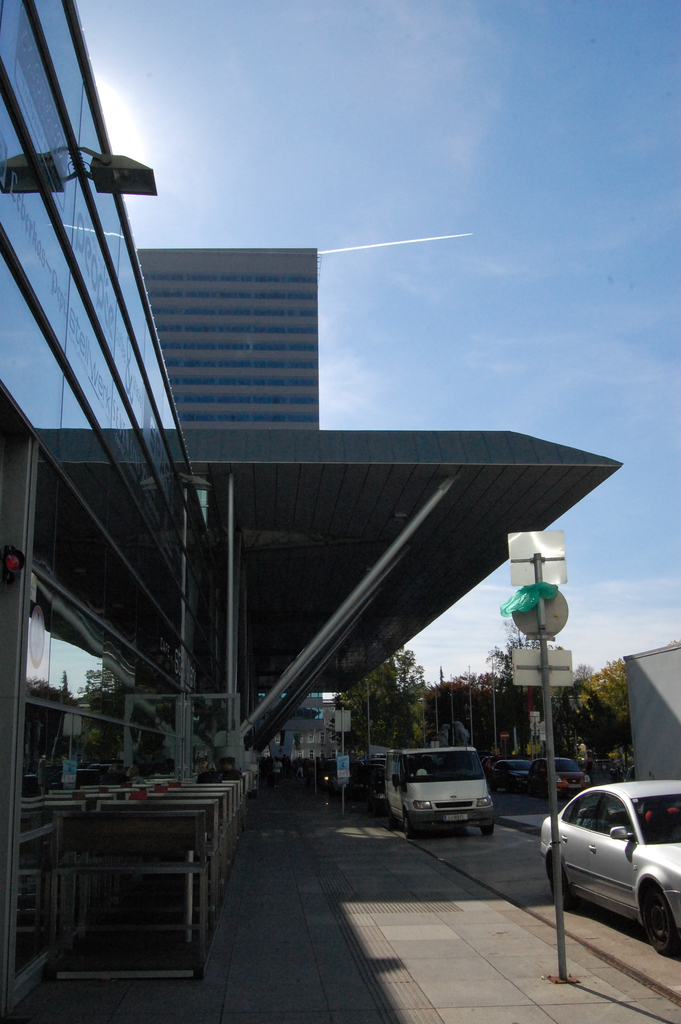Car: (542, 784, 681, 961), (527, 753, 590, 799), (487, 753, 527, 794)
